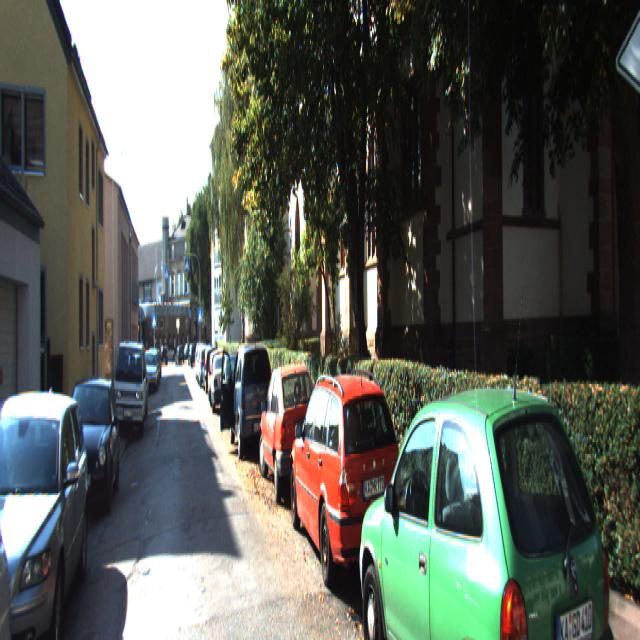Car: (351, 352, 636, 638), (284, 350, 412, 606), (0, 377, 92, 638), (257, 351, 325, 511), (58, 364, 120, 526), (227, 338, 272, 461), (110, 340, 145, 447), (208, 350, 230, 416), (144, 346, 159, 394)
